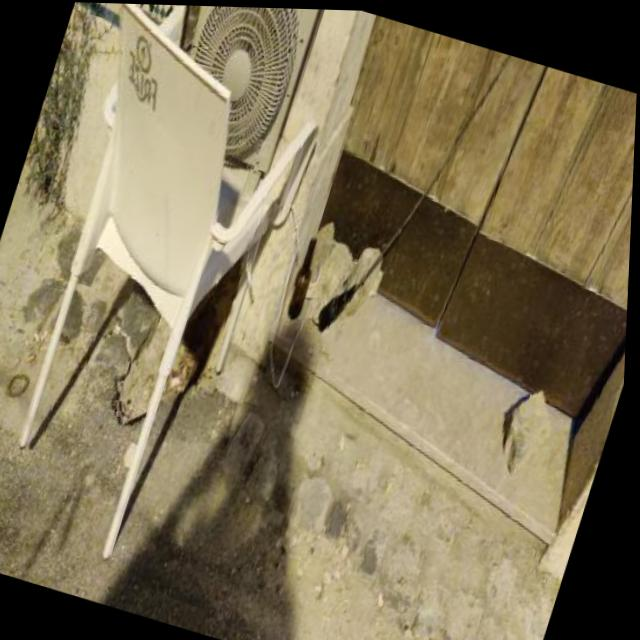foam: (355, 460, 366, 468)
glass: (282, 235, 323, 323)
